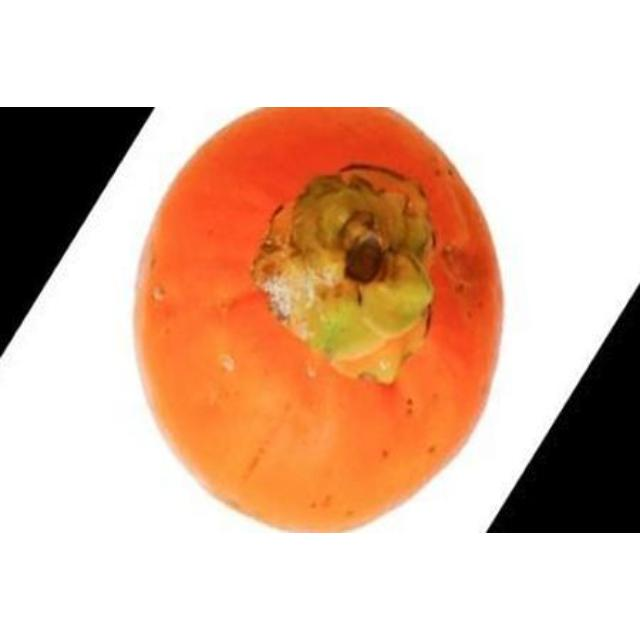good: (138, 107, 503, 532)
